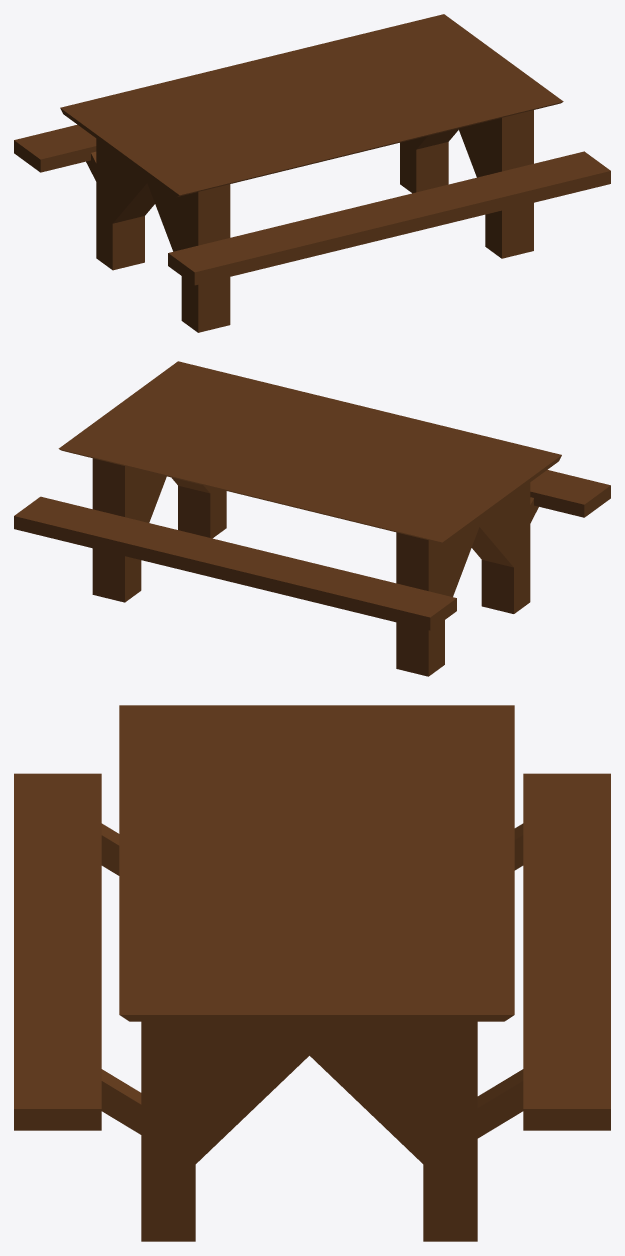
The model's file is Bench02.glb.
3 renders of one model, top to bottom at view 1: azimuth 30°, elevation 25°; view 2: azimuth 150°, elevation 25°; view 3: azimuth 270°, elevation 25°, orthographic. The views are drawn at different scales.
Parts seen in each view (by area): view 1: Plane, Cube.004, Cube, Cube.002, Cube.001, Cube.007, Cube.003; view 2: Plane, Cube.007, Cube.001, Cube, Cube.003, Cube.004, Cube.002; view 3: Plane, Cube.004, Cube.007, Cube.002, Cube.003, Cube.009, Cube.006, Cube.005.
Boxes of the visible parts, <box> form: Plane: <box>60,14,563,196</box>; Cube.004: <box>168,151,610,285</box>; Cube: <box>146,175,230,332</box>; Cube.002: <box>458,110,533,258</box>; Cube.001: <box>96,138,154,270</box>; Cube.007: <box>14,124,96,172</box>; Cube.003: <box>400,128,458,193</box>; Plane: <box>58,361,561,544</box>; Cube.007: <box>14,496,456,630</box>; Cube.001: <box>396,520,479,676</box>; Cube: <box>471,482,530,613</box>; Cube.003: <box>92,458,166,602</box>; Cube.004: <box>530,470,610,517</box>; Cube.002: <box>172,477,226,538</box>; Plane: <box>119,705,514,1021</box>; Cube.004: <box>14,773,101,1130</box>; Cube.007: <box>523,773,610,1130</box>; Cube.002: <box>141,1021,311,1241</box>; Cube.003: <box>307,1021,477,1241</box>; Cube.009: <box>477,1069,523,1138</box>; Cube.006: <box>101,1069,141,1134</box>; Cube.005: <box>101,823,119,875</box>.
Bounding box in the file's own units: 4.24 × 1.44 × 3.18.
